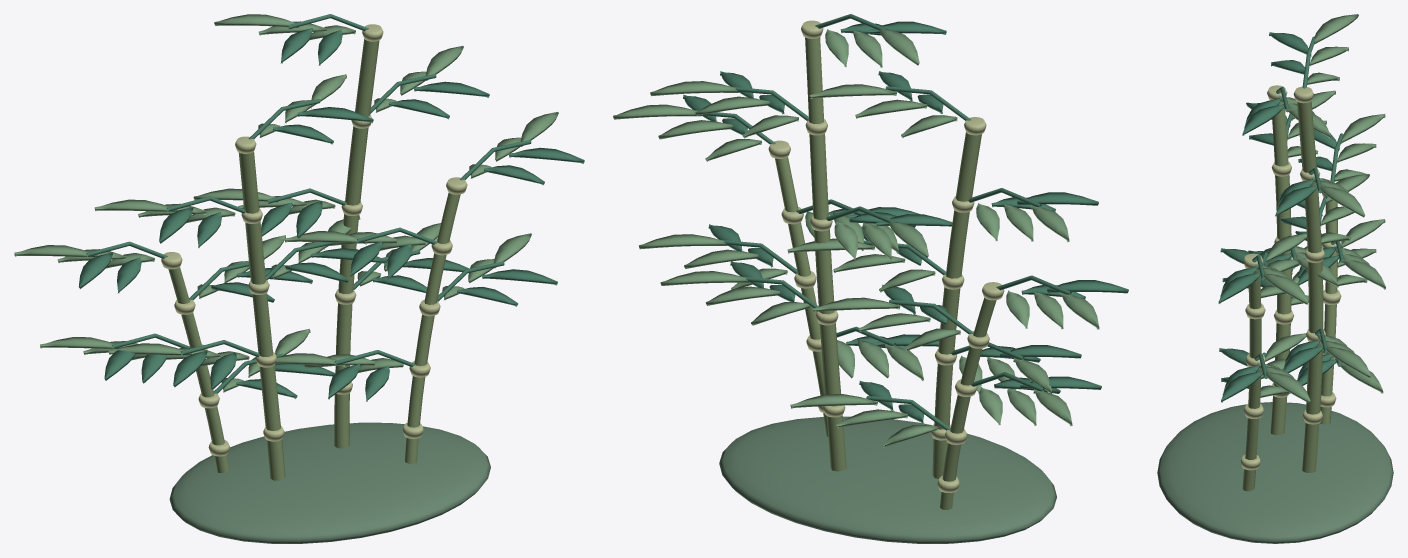
Rendered from bamboo_crafted.glb.
The picture shows the model from 3 angles, left to right: view 1: azimuth 30°, elevation 25°; view 2: azimuth 150°, elevation 25°; view 3: azimuth 270°, elevation 25°; orthographic projection. The views are drawn at different scales.
Parts seen in each view (by area): view 1: Soft moss root pad, Deep waxed bamboo leaf, Fresh bamboo leaf, Waxed pale bamboo culm, Bamboo joint lip; view 2: Soft moss root pad, Fresh bamboo leaf, Deep waxed bamboo leaf, Waxed pale bamboo culm, Bamboo joint lip; view 3: Soft moss root pad, Fresh bamboo leaf, Waxed pale bamboo culm, Deep waxed bamboo leaf, Bamboo joint lip.
Boxes of the visible parts, x1,y1,x2,y2 form: Soft moss root pad: (169, 422, 490, 543); Deep waxed bamboo leaf: (78, 14, 584, 401); Fresh bamboo leaf: (14, 14, 558, 392); Waxed pale bamboo culm: (168, 39, 460, 480); Bamboo joint lip: (161, 24, 467, 456); Soft moss root pad: (719, 416, 1056, 543); Fresh bamboo leaf: (613, 28, 1099, 447); Deep waxed bamboo leaf: (683, 14, 1128, 430); Waxed pale bamboo culm: (775, 37, 996, 510); Bamboo joint lip: (768, 20, 1004, 492); Soft moss root pad: (1157, 402, 1393, 543); Fresh bamboo leaf: (1255, 14, 1385, 403); Waxed pale bamboo culm: (1242, 101, 1337, 491); Deep waxed bamboo leaf: (1218, 32, 1344, 402); Bamboo joint lip: (1240, 85, 1341, 470).
Bounding box in the file's own units: 2.11 × 1.88 × 0.9.
